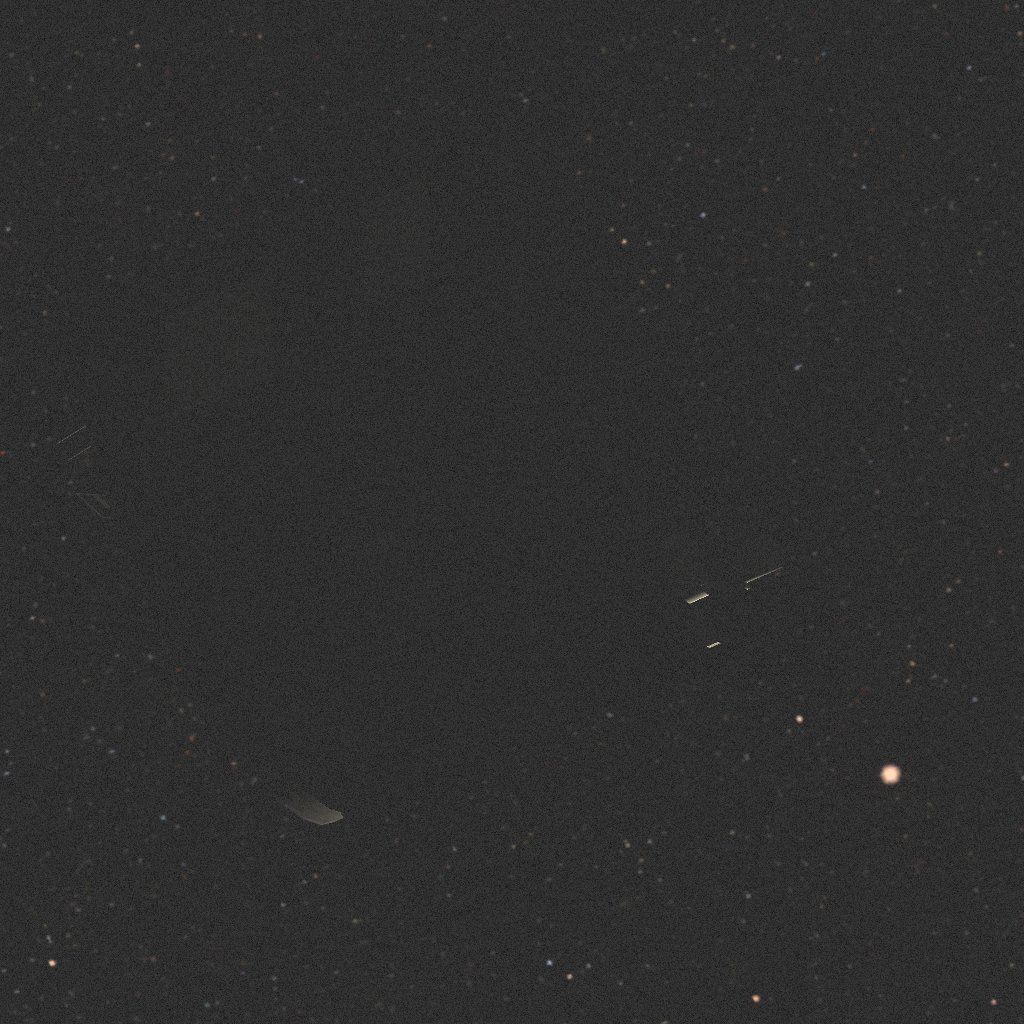proba_3_ocs: (26, 116, 783, 825)
